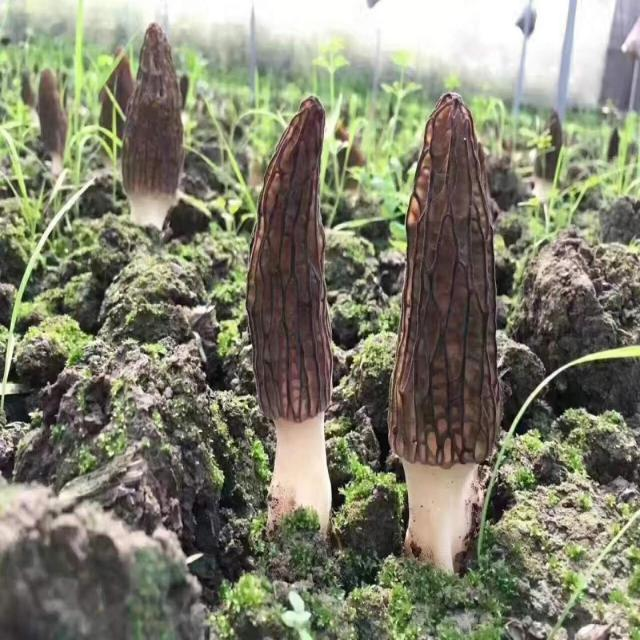Morchella esculenta: (394, 94, 499, 570), (247, 100, 334, 534), (128, 26, 185, 221), (38, 67, 67, 175)
